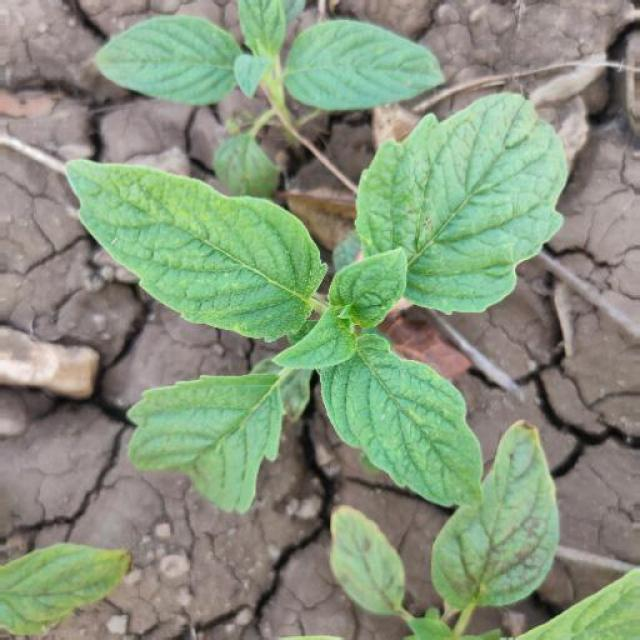crop: (2, 86, 640, 502)
